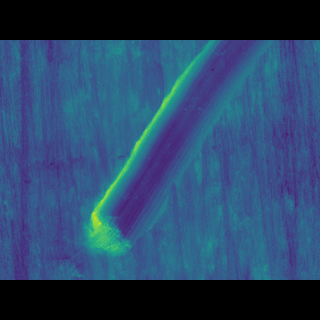Loch: (74, 68, 277, 235)
